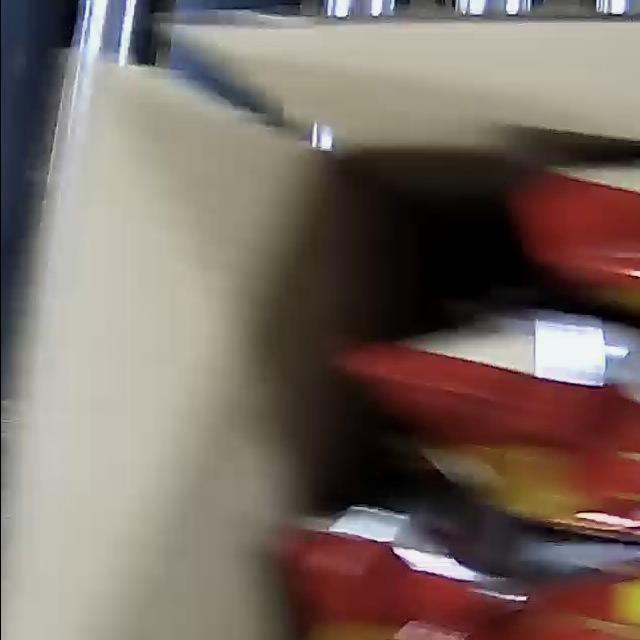masala: (312, 167, 640, 640)
